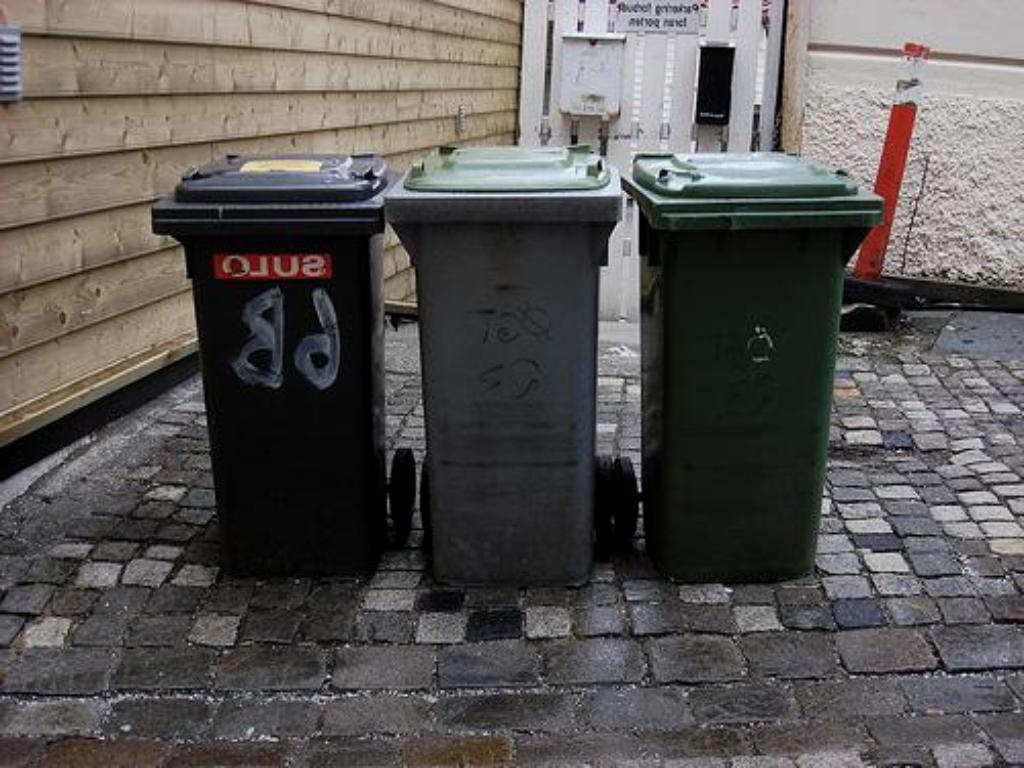dustbin: (612, 138, 878, 590), (159, 150, 393, 588), (390, 146, 612, 602)
